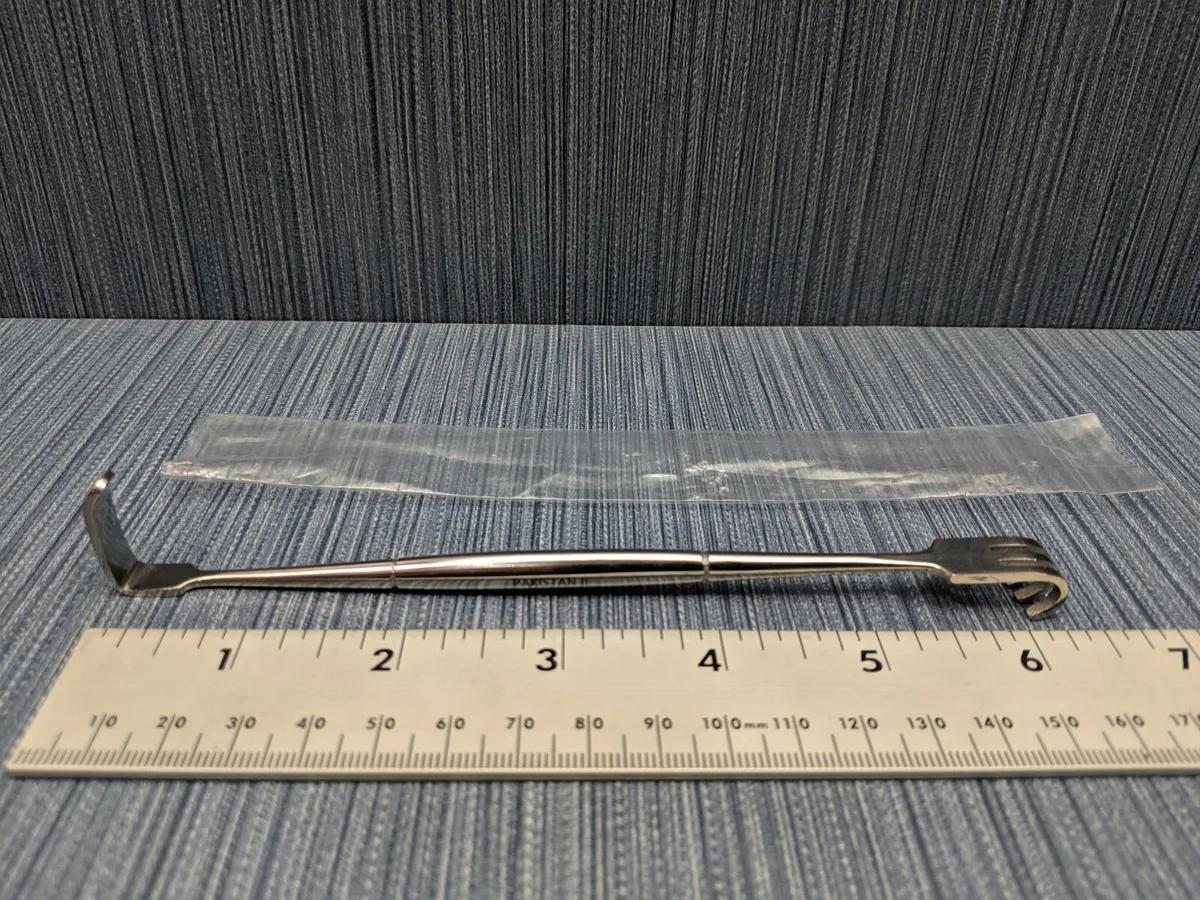Senn Retractor: (74, 450, 1077, 624)
